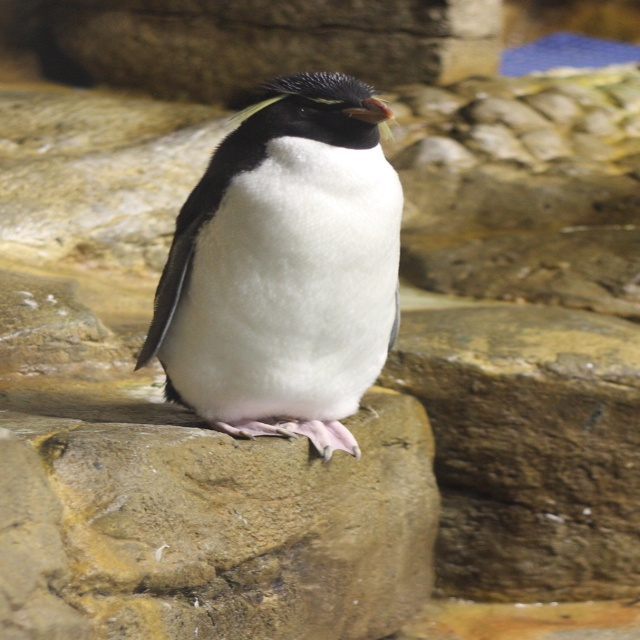Penguin: (121, 54, 428, 456)
